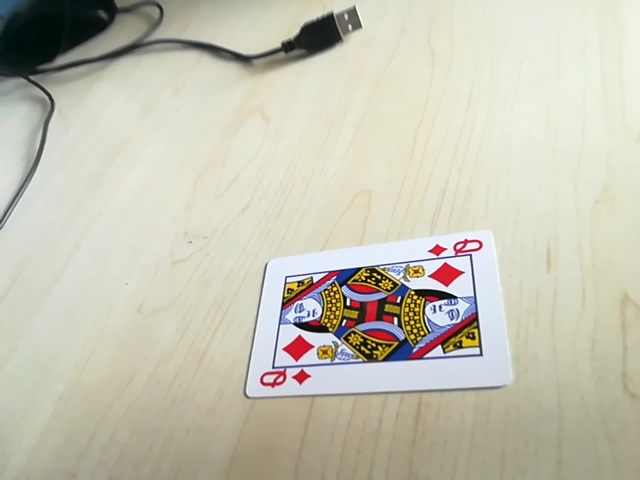fk q: (255, 363, 313, 394), (426, 237, 486, 262)
